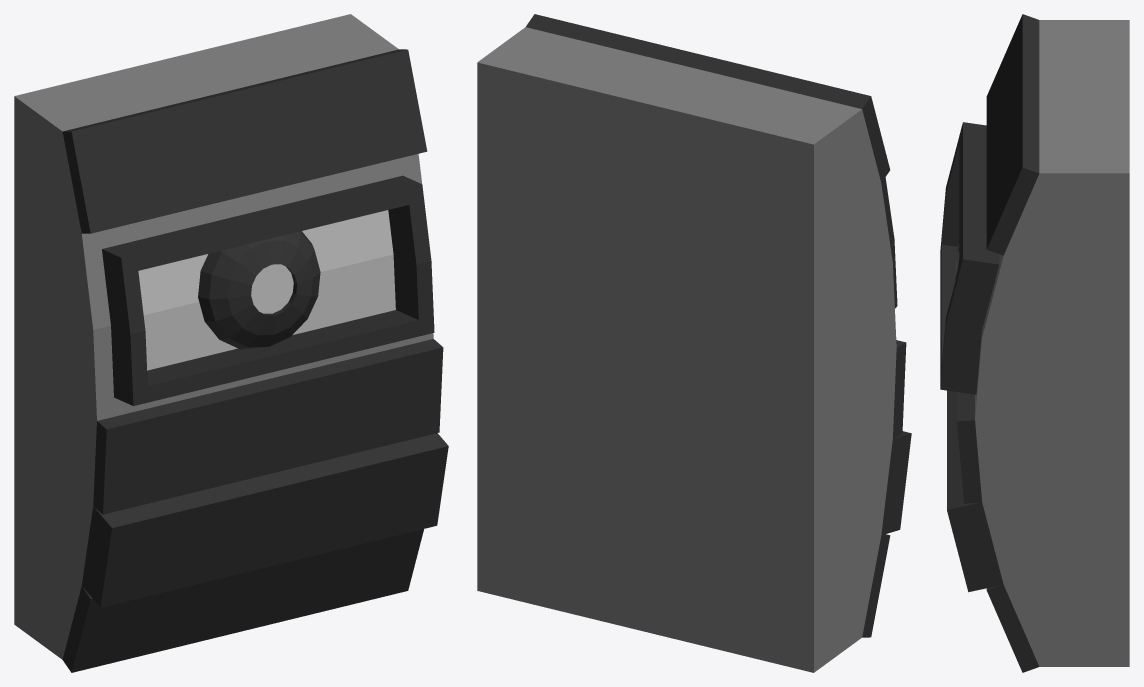
Rendered from RetinaScan.fbx.
The picture shows the model from 3 angles, left to right: view 1: azimuth 30°, elevation 25°; view 2: azimuth 150°, elevation 25°; view 3: azimuth 270°, elevation 25°; orthographic projection. The views are drawn at different scales.
Visible parts, largest first — view 1: RetinaScan; view 2: RetinaScan; view 3: RetinaScan.
Part boxes in pixels (x1,y1,x2,y2): RetinaScan: (14,14,448,672); RetinaScan: (477,14,911,672); RetinaScan: (940,14,1129,672).
Size of the model in its own units: 40 by 61.47 by 20.88.
